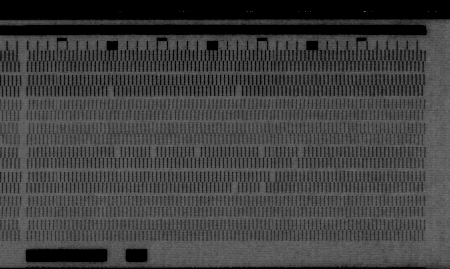Broken hole: (190, 145, 205, 159), (255, 145, 266, 159), (147, 146, 159, 158), (106, 86, 117, 99), (295, 146, 306, 159), (256, 183, 269, 194), (228, 182, 239, 195), (112, 146, 123, 159), (267, 171, 278, 183), (289, 159, 301, 169), (234, 84, 243, 97)
